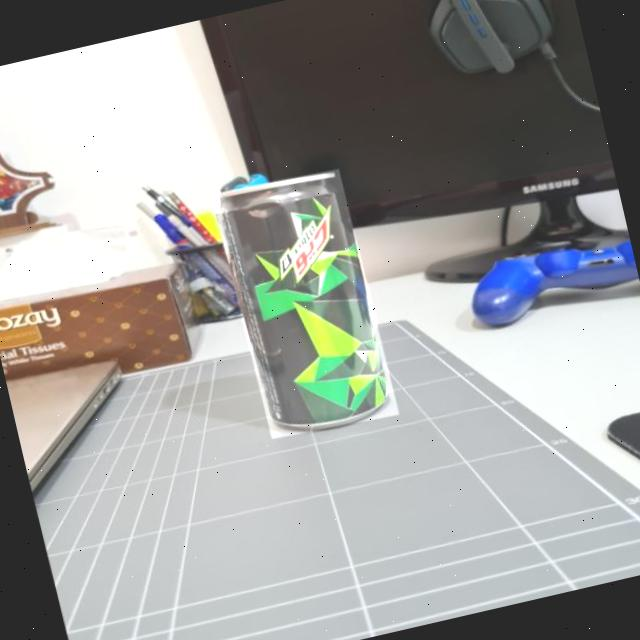trash: (218, 170, 395, 442)
